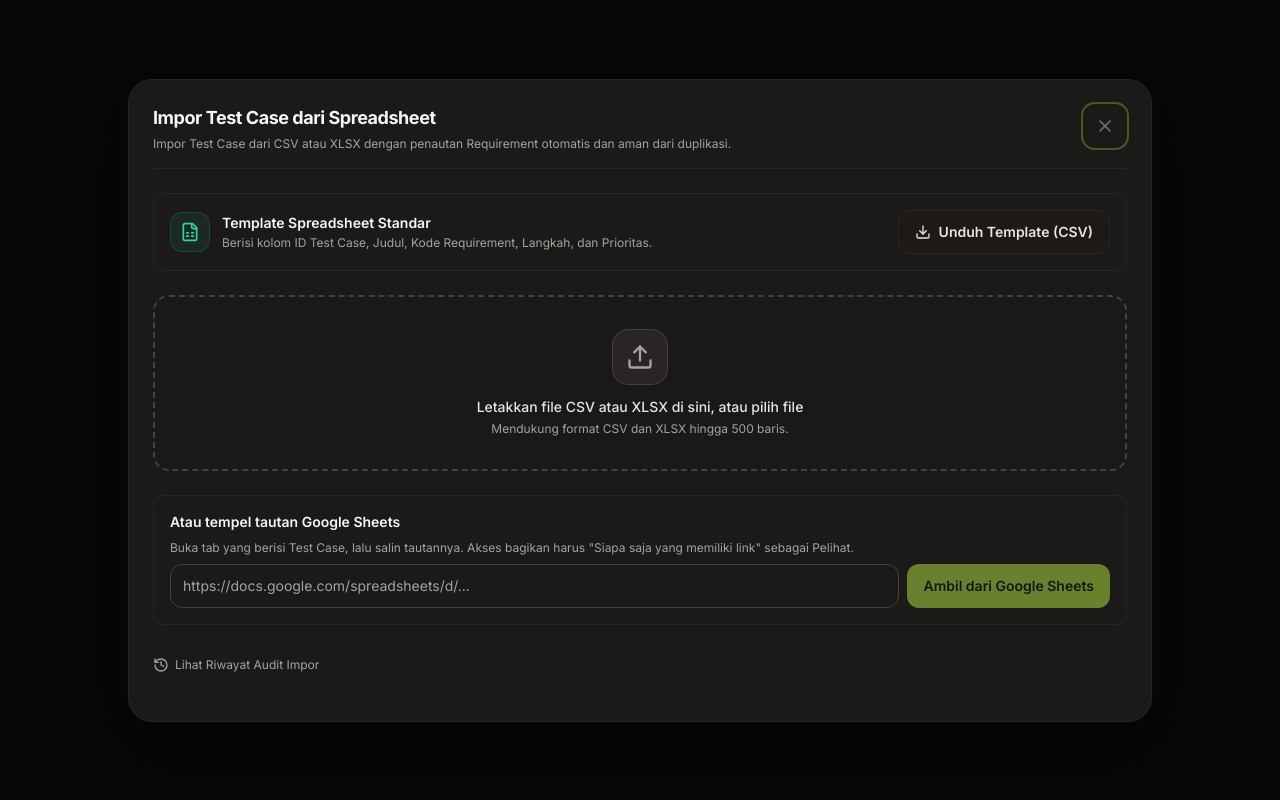
Scenario: TestCaseImportWizardModal › lets the QA pick a valid Requirement for a rejected row without touching the sheet
The width and height of the screenshot is (1280, 800).
Type "https://docs.google.com/spreadsheets/d/abc/edit#gid=1" into the field labelled "Atau tempel tautan Google Sheets" at (535, 586), box [170, 564, 900, 608]
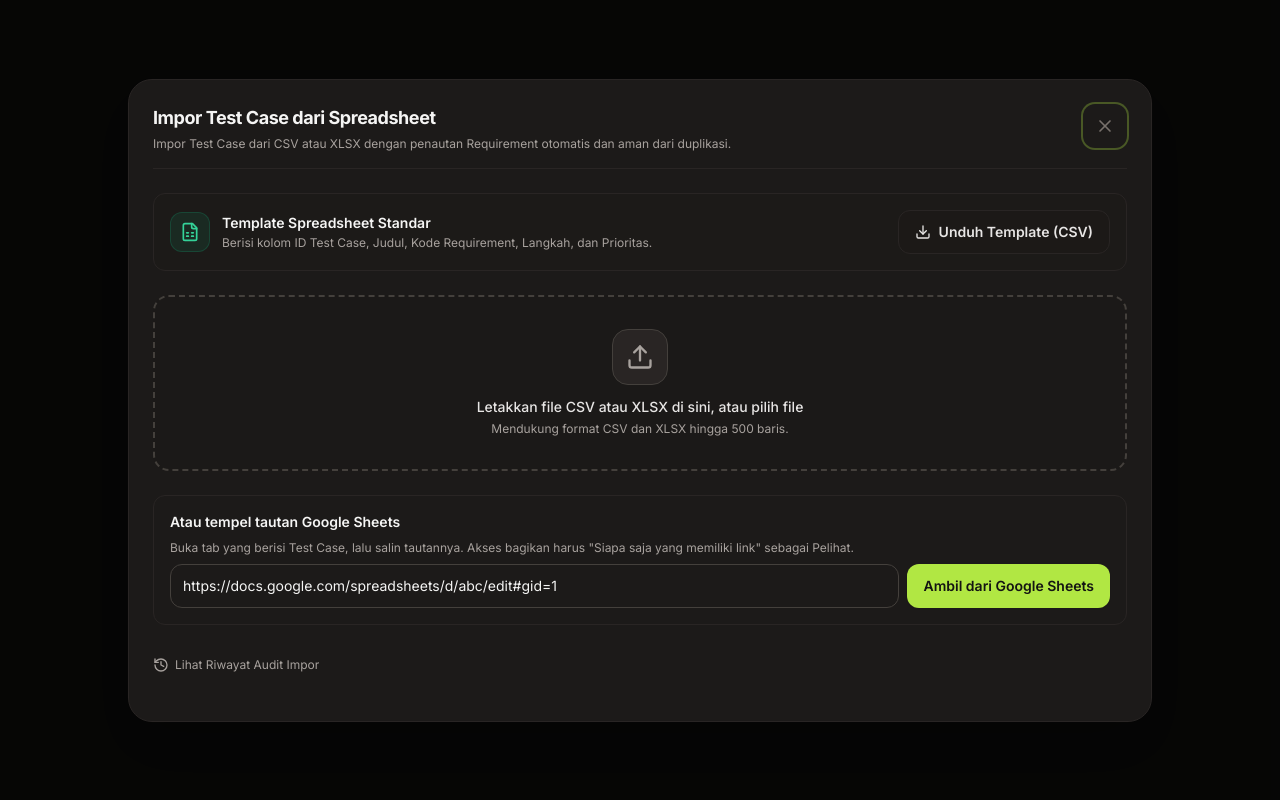
Click the button "Ambil dari Google Sheets" at (1009, 586), box [908, 564, 1110, 608]
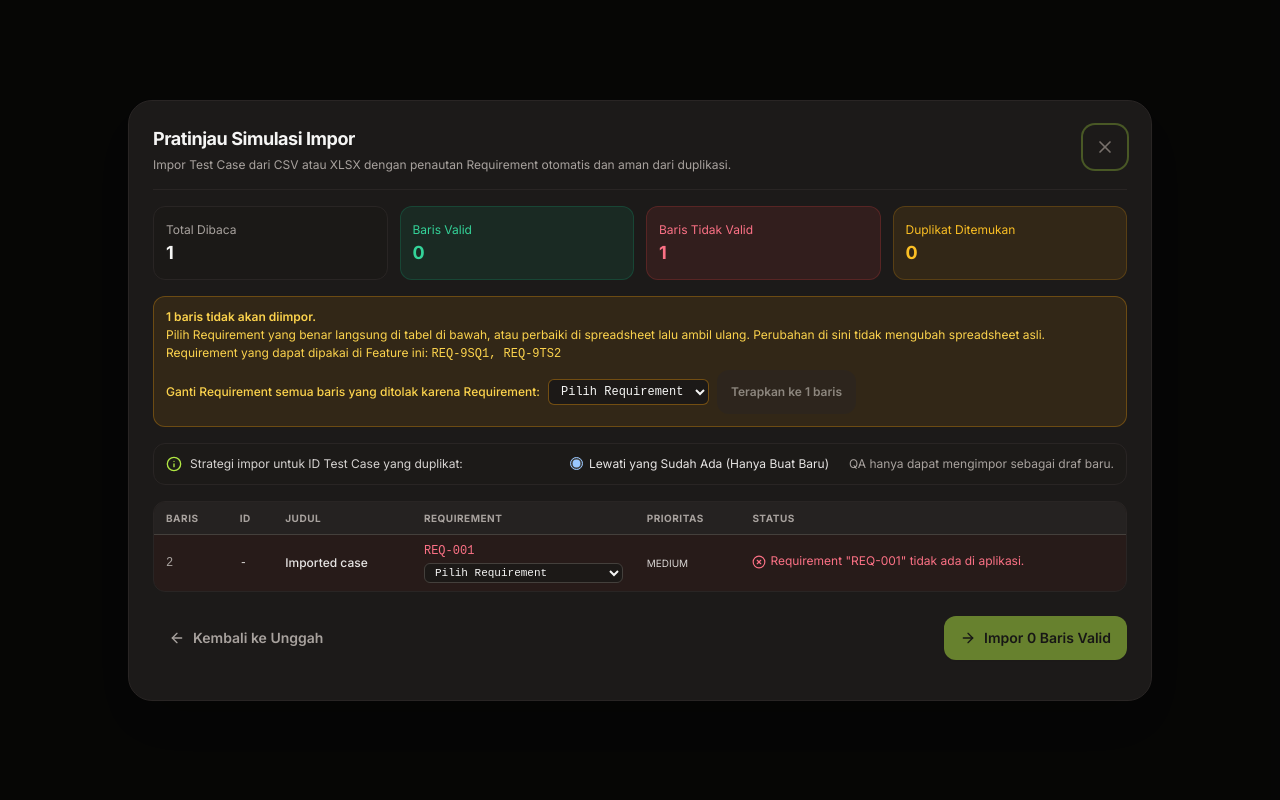
Select "REQ-9SQ1" in the dropdown named "Ganti Requirement baris 2" at (523, 572), box [424, 562, 623, 582]
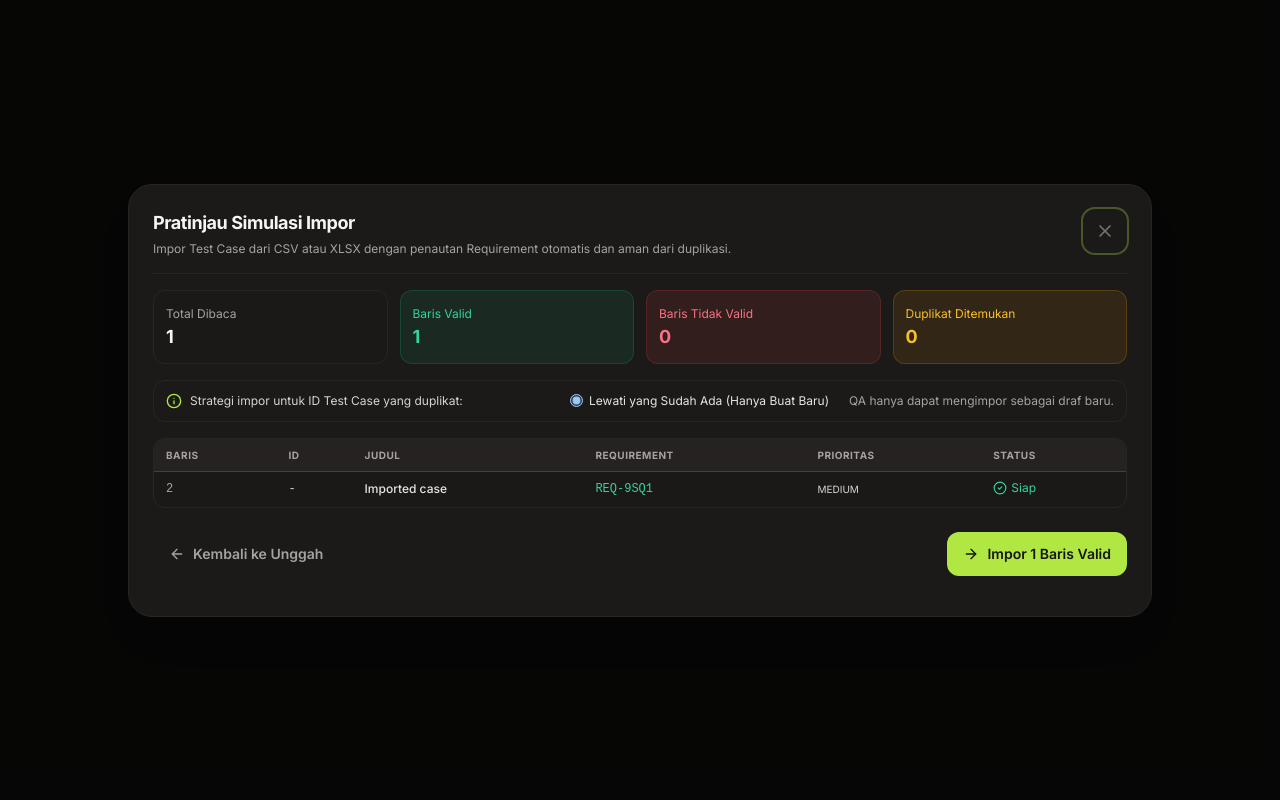
Expected: the button "Impor 1 Baris Valid" is enabled, [947, 532, 1127, 576]
